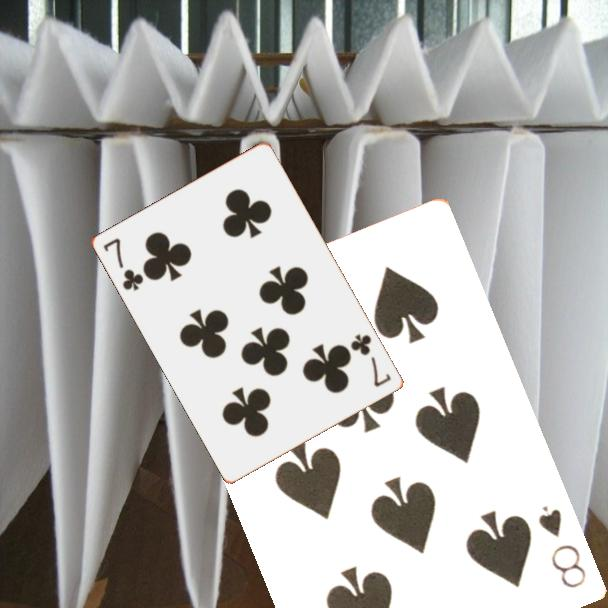c07: (347, 330, 394, 390), (100, 235, 147, 294)
s08: (535, 502, 590, 592)
